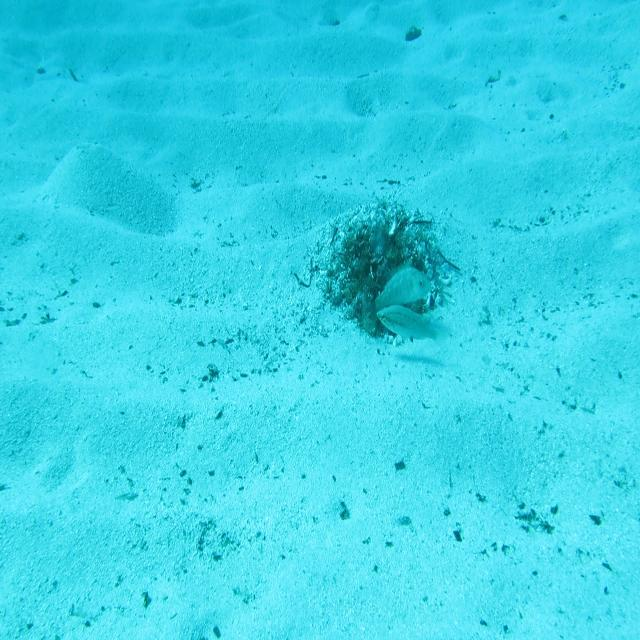DAN_CIRC: (367, 255, 433, 327)
female: (391, 304, 453, 351)
nest: (329, 200, 454, 347)
